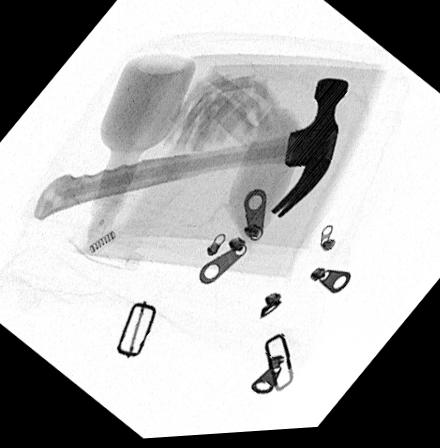Hammer: (34, 82, 349, 225)
